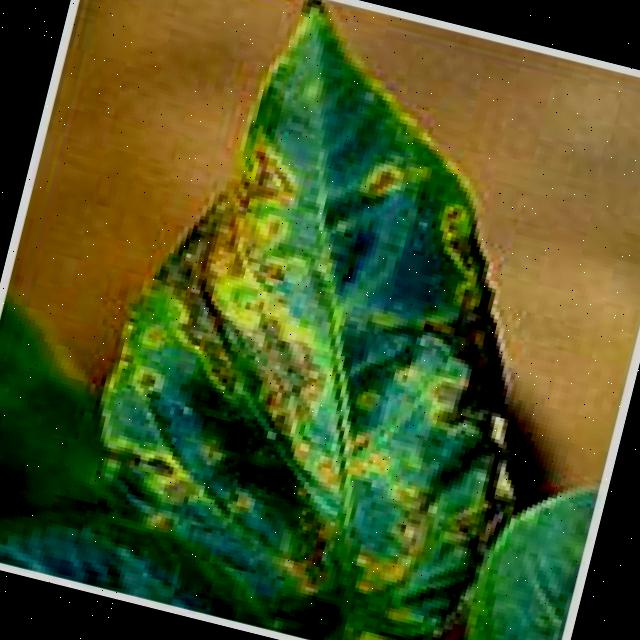leaf spot: (53, 0, 620, 640)
